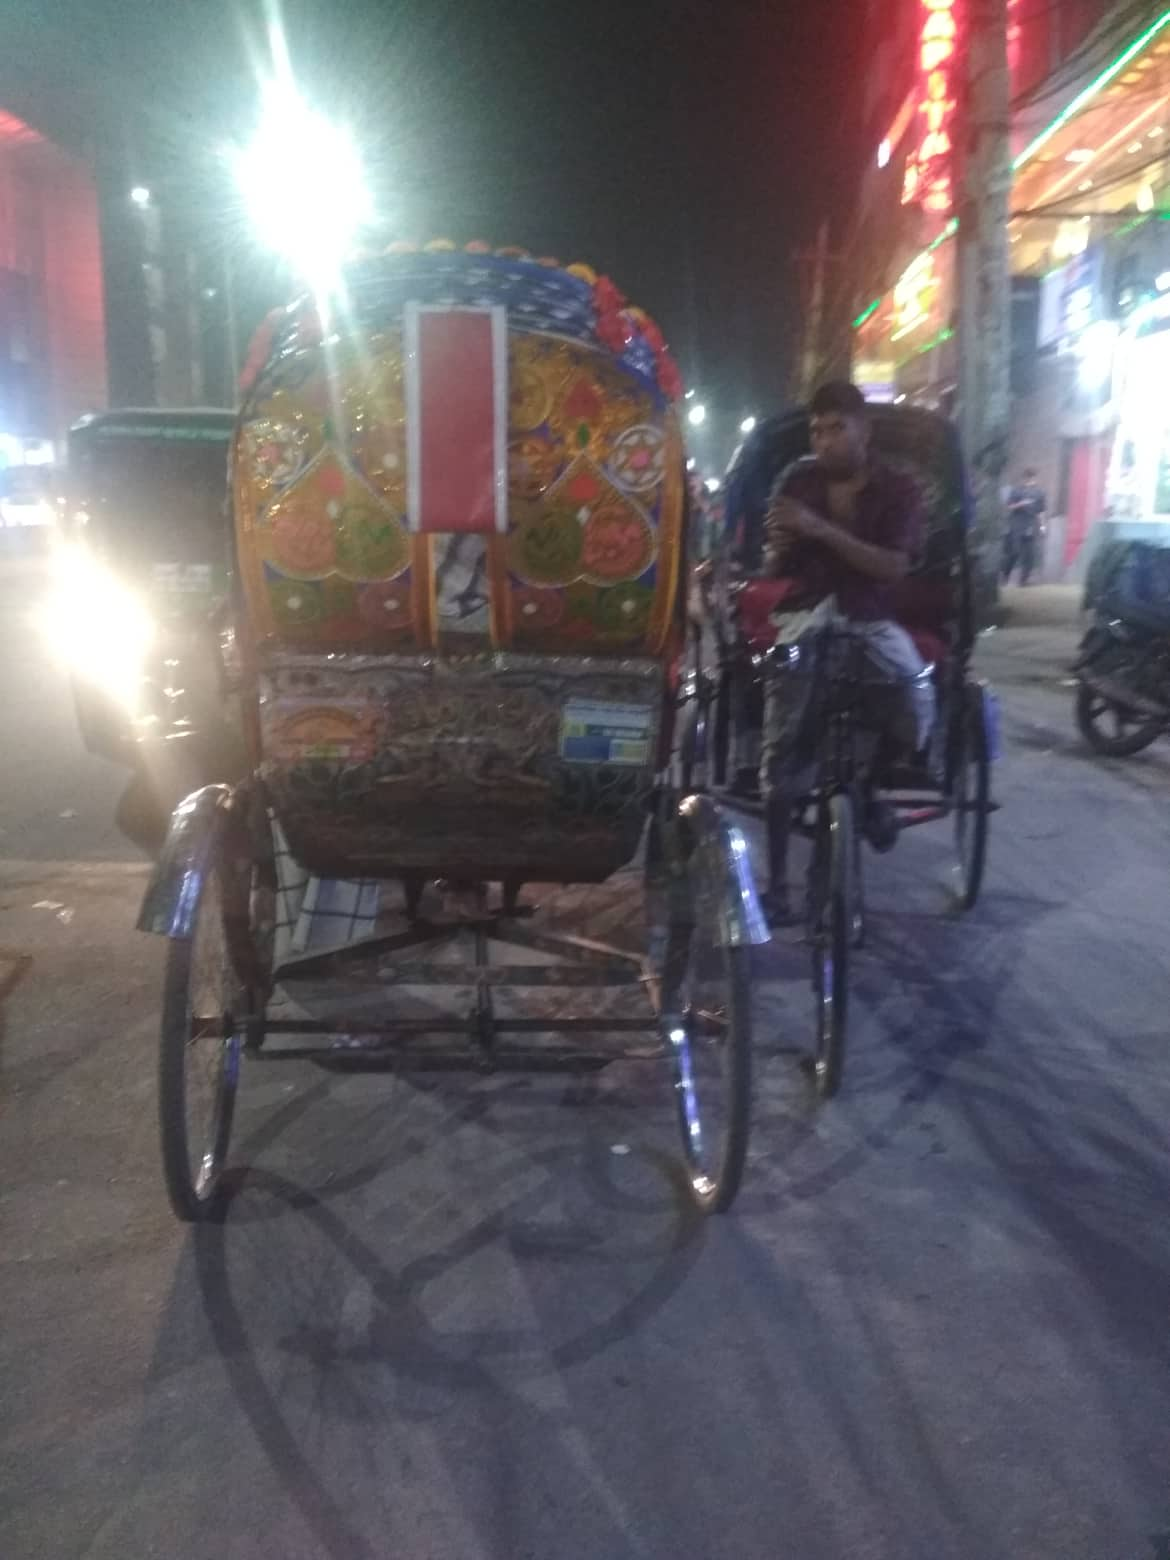Rickshaw: (143, 217, 758, 1226), (704, 380, 1000, 1070)
